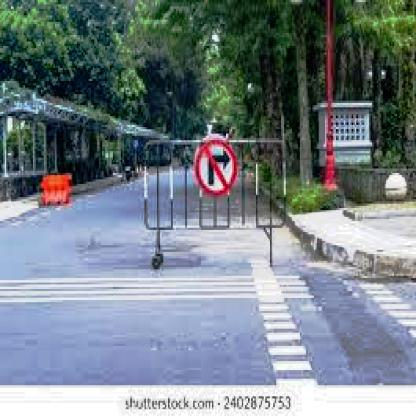No right turn: (191, 134, 241, 194)
